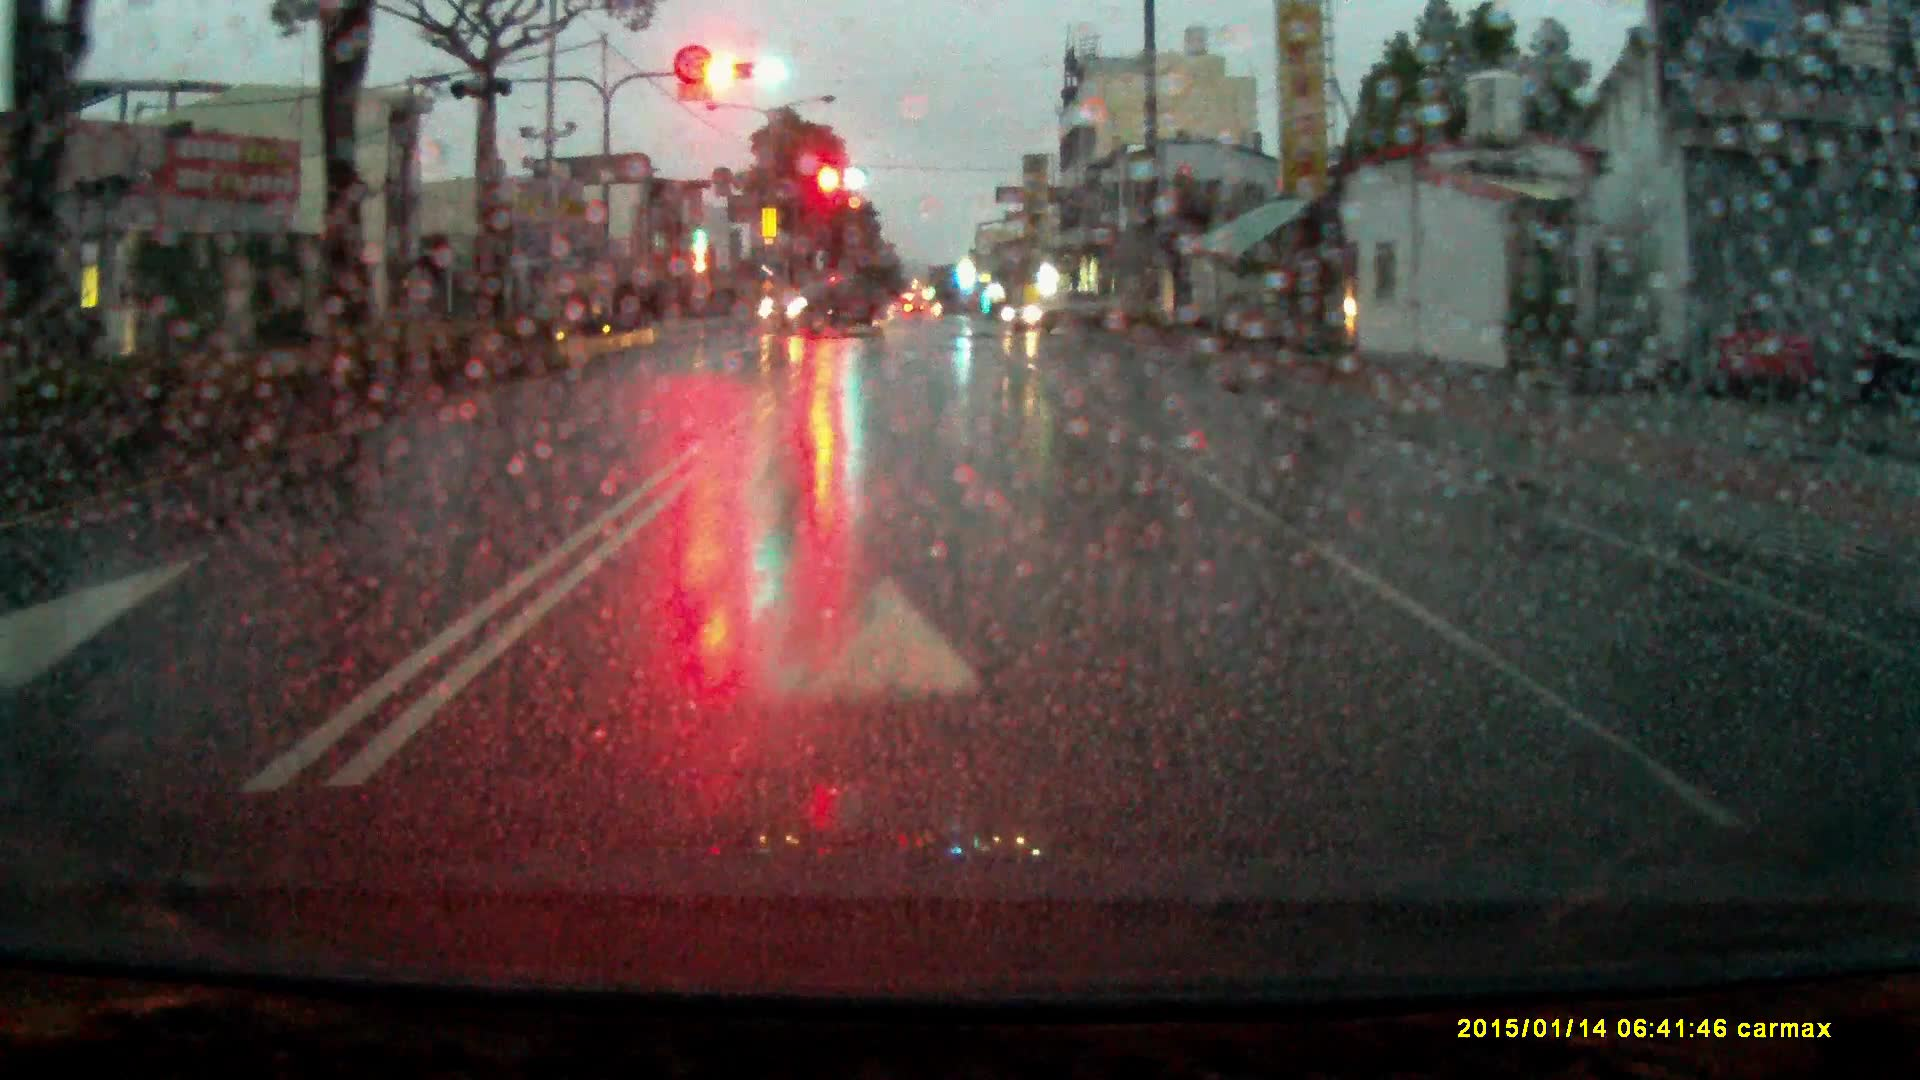vehicle: (756, 276, 897, 343), (1004, 294, 1121, 342)
